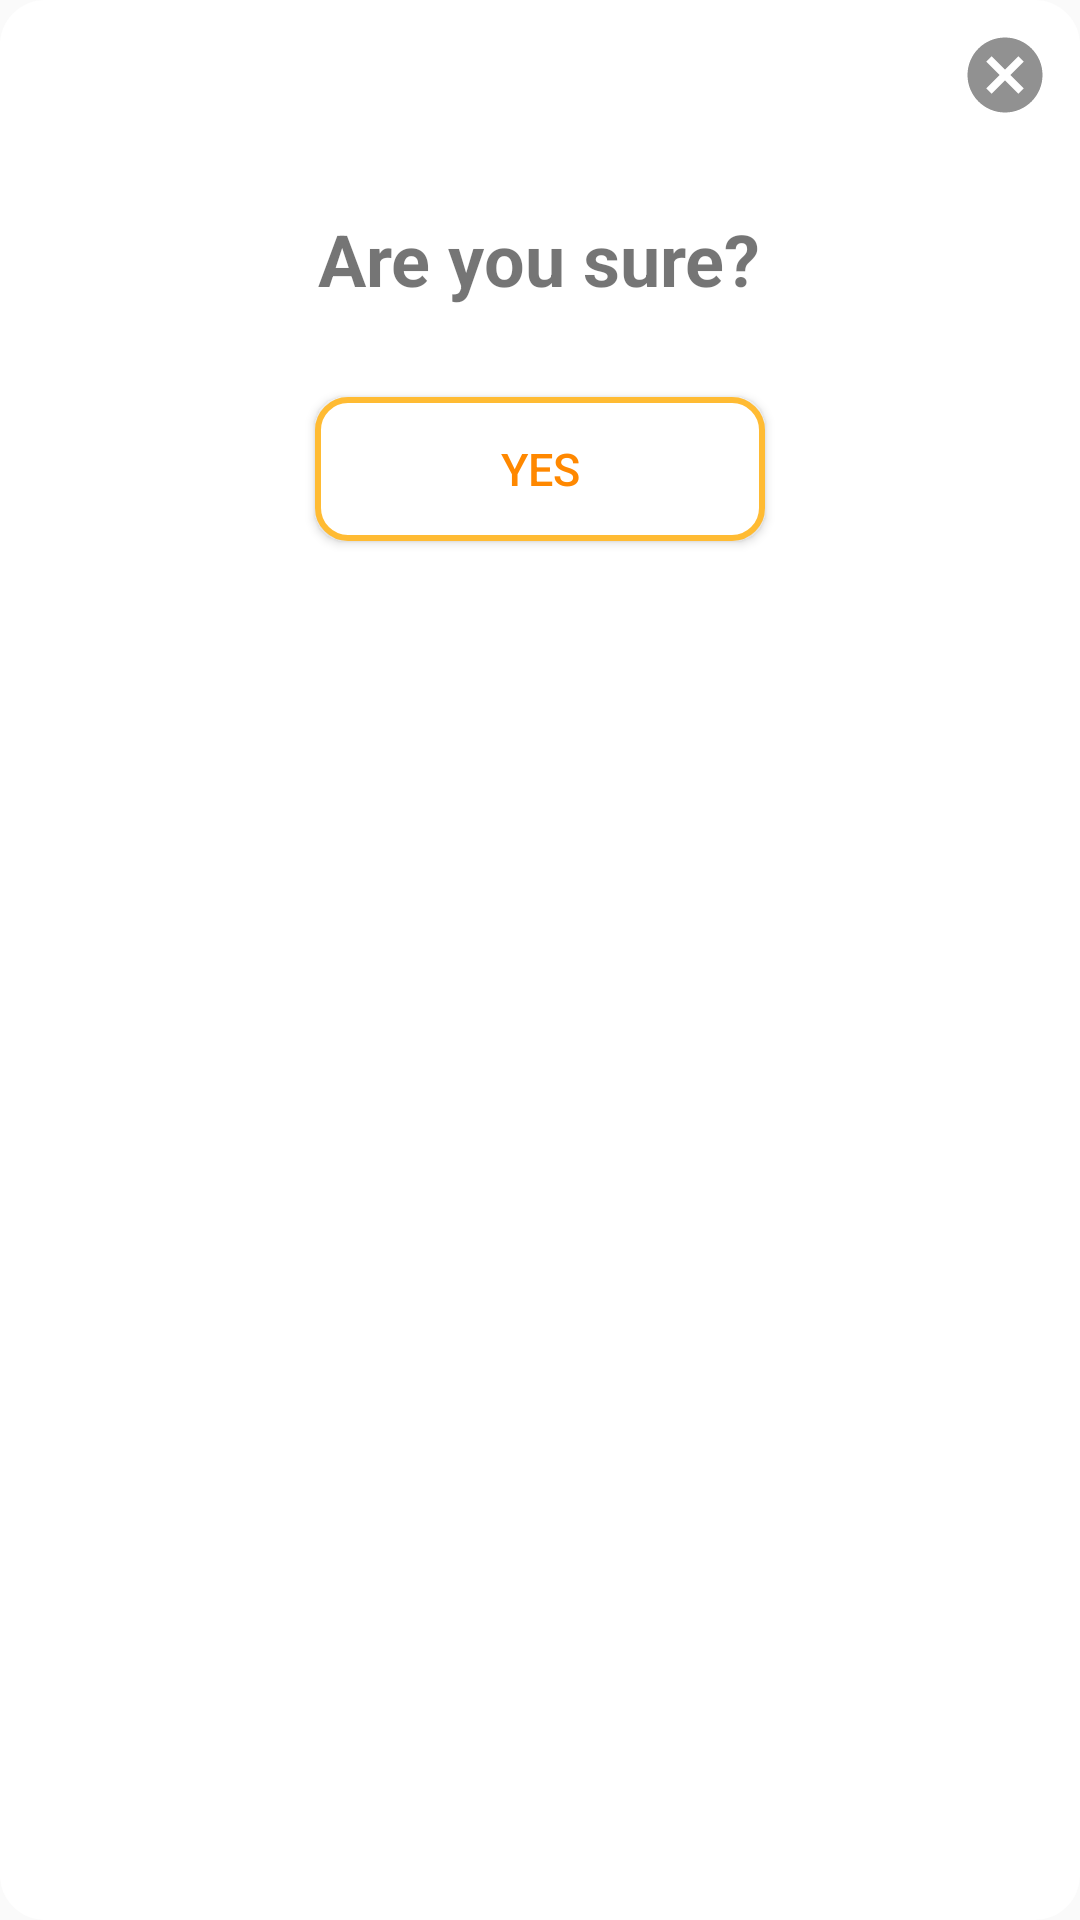

Icon bounding boxes for this 1080x1920 phone screenshot, format (x1, y1, x2, y2):
cancel: (967, 37, 1043, 113)
